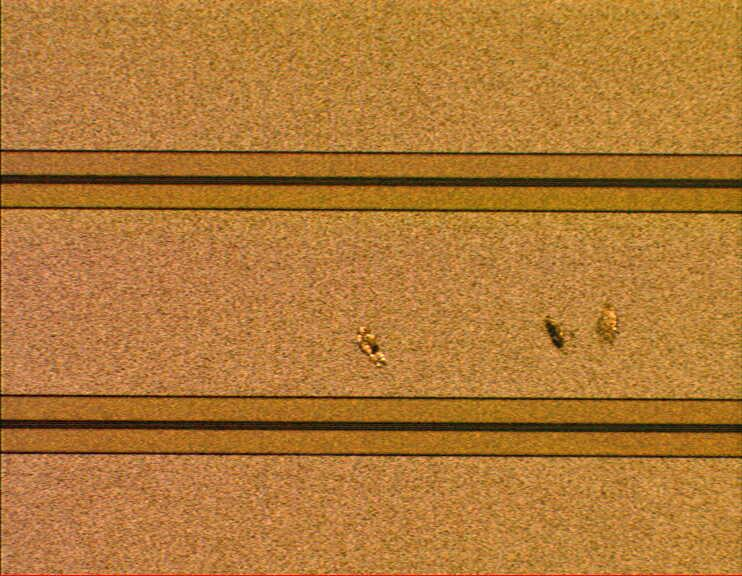SCRATCH: (335, 281, 643, 413)
